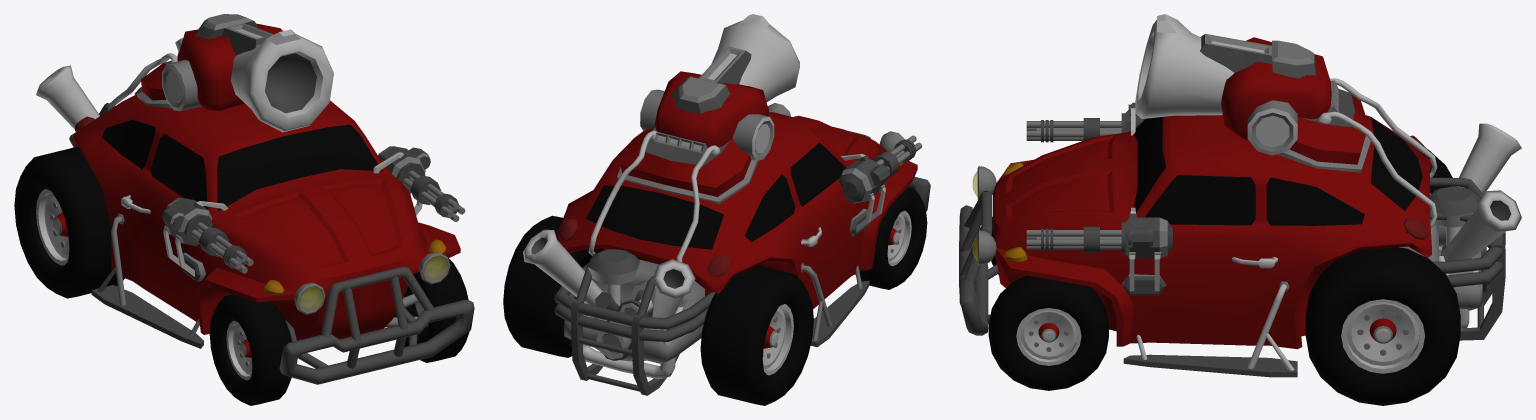
Rendered from Baja.fbx.
The picture shows the model from 3 angles, left to right: view 1: azimuth 30°, elevation 25°; view 2: azimuth 150°, elevation 25°; view 3: azimuth 270°, elevation 25°; orthographic projection. The views are drawn at different scales.
Parts seen in each view (by area): view 1: polySurface1; view 2: polySurface1; view 3: polySurface1.
Boxes of the visible parts, x1,y1,x2,y2 form: polySurface1: [14, 14, 474, 405]; polySurface1: [503, 14, 930, 405]; polySurface1: [959, 14, 1521, 405].
Size of the model in its own units: 211 by 227 by 356.
